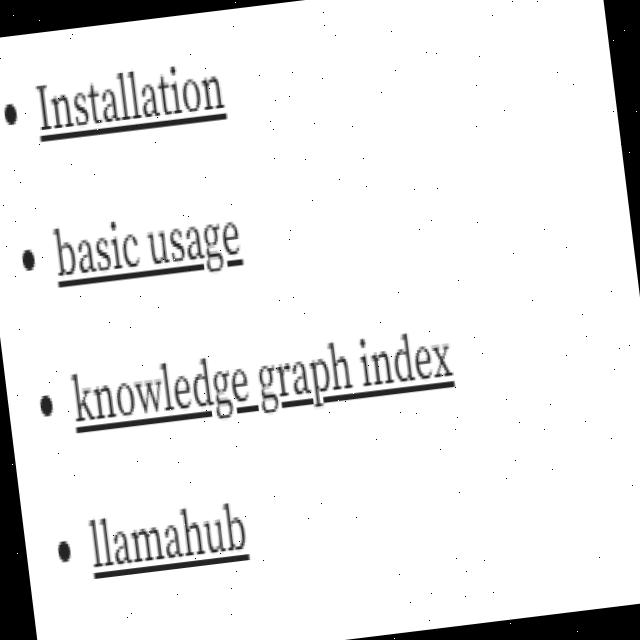word: (62, 317, 463, 445), (46, 197, 253, 295), (28, 51, 234, 145), (76, 497, 260, 589), (0, 79, 26, 144), (46, 533, 77, 575), (15, 237, 42, 282), (34, 387, 57, 423)
